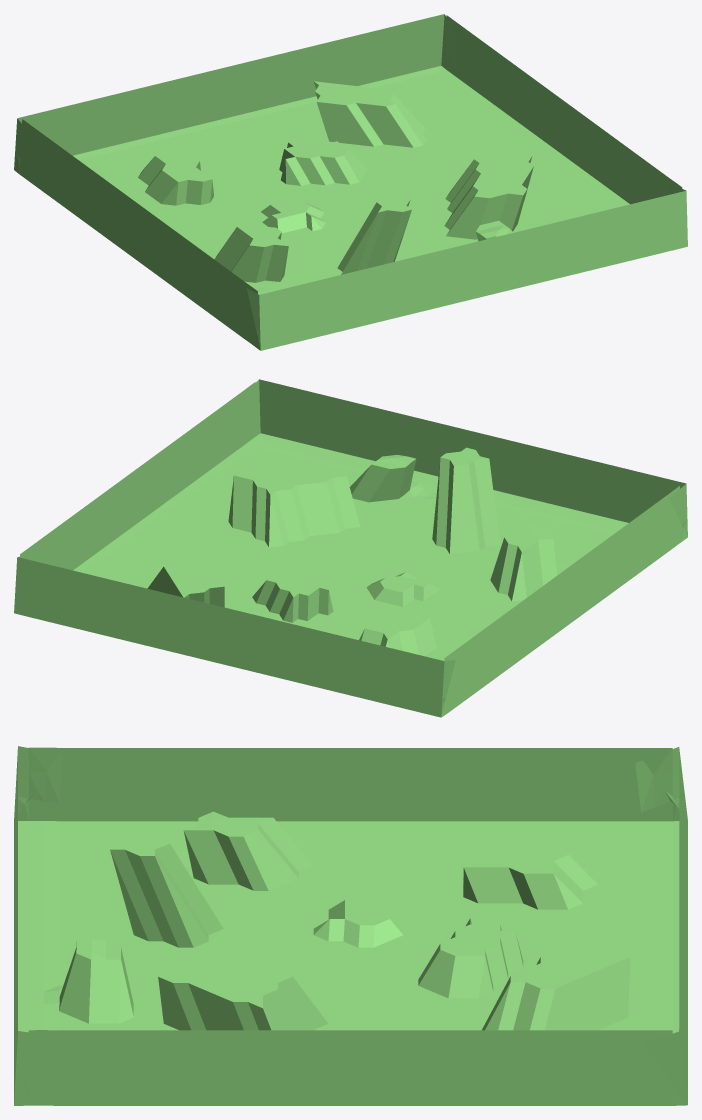
Rendered from map.dae.
The picture shows the model from 3 angles, top to bottom: view 1: azimuth 30°, elevation 25°; view 2: azimuth 150°, elevation 25°; view 3: azimuth 270°, elevation 25°; orthographic projection. The views are drawn at different scales.
Parts seen in each view (by area): view 1: Plane; view 2: Plane; view 3: Plane.
Boxes of the visible parts, <box> form: Plane: <box>14,14,687,350</box>; Plane: <box>14,379,687,717</box>; Plane: <box>14,746,687,1105</box>.
Bounding box in the file's own units: 47.65 × 47.65 × 7.5.
